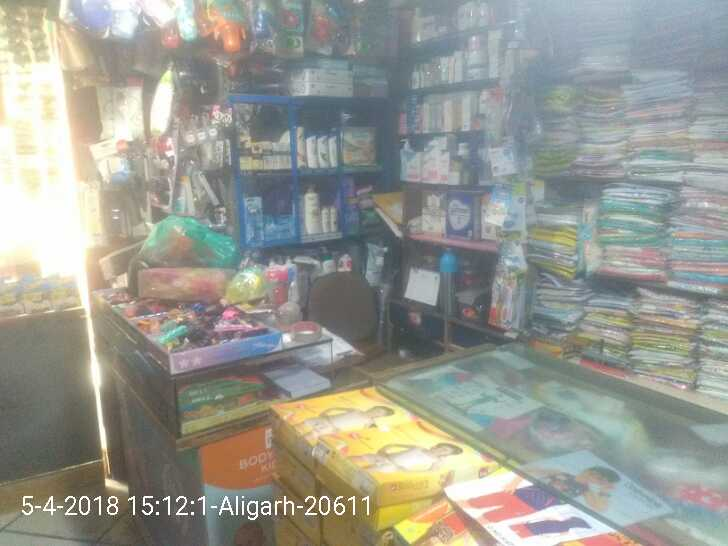venus: (247, 197, 263, 241)
